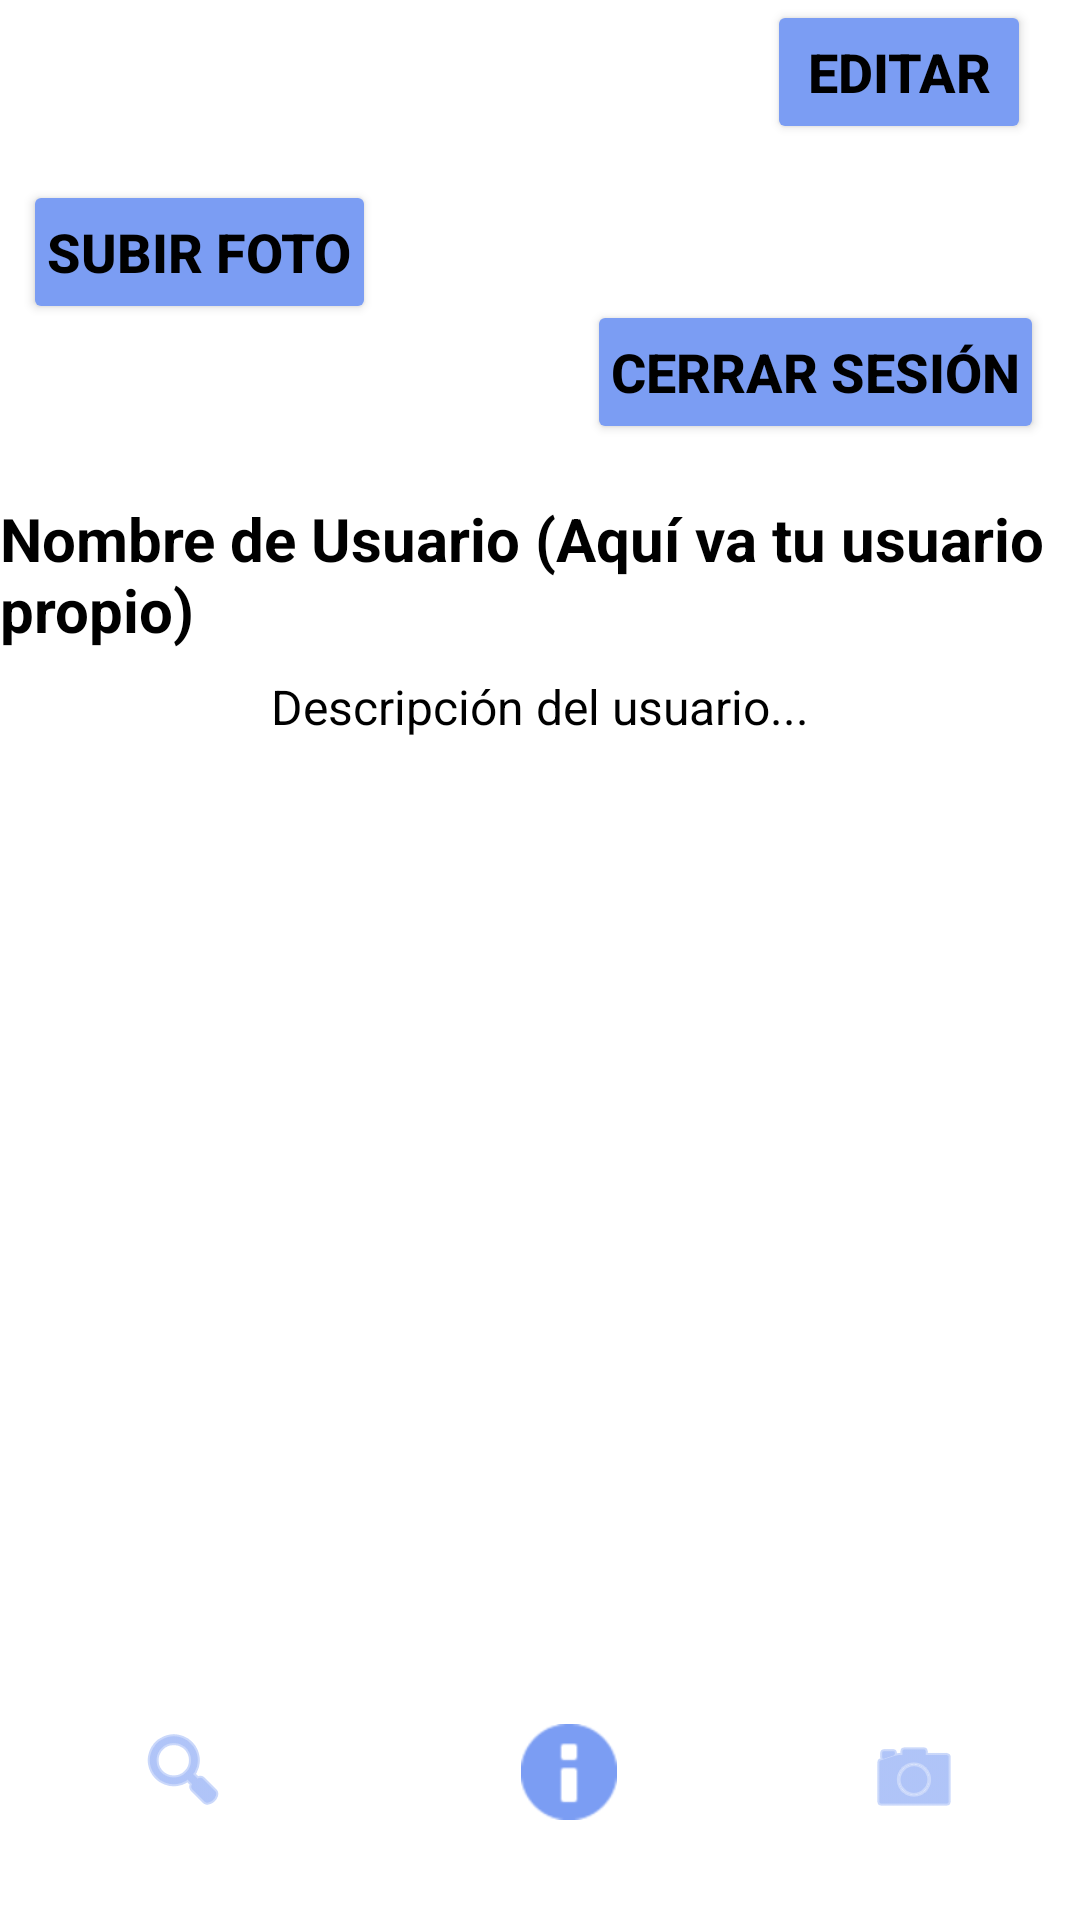

Named icons in this screenshot (1080 x 1920) and their bounding boxes, (left=x1, top=y1, right=x2, bottom=y2):
Buscar: (left=148, top=1734, right=218, bottom=1805)
Gallery: (left=877, top=1747, right=951, bottom=1806)
